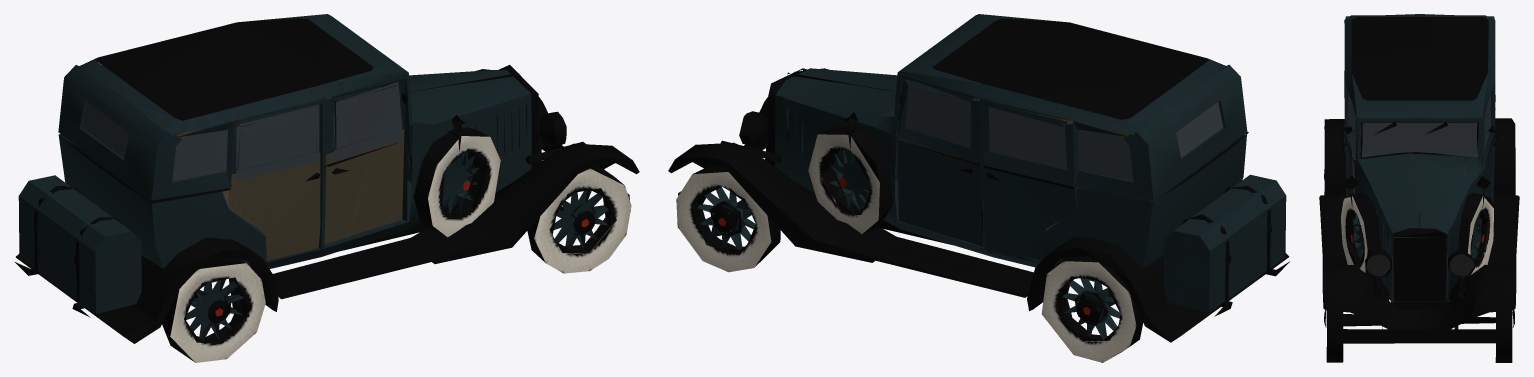
Rendered from car_pv.glb.
3 views of the same model, side by side, from view 1: azimuth 30°, elevation 25°; view 2: azimuth 150°, elevation 25°; view 3: azimuth 270°, elevation 25° (orthographic). The views are drawn at different scales.
Visible parts, largest first — view 1: CarSedan; view 2: CarSedan; view 3: CarSedan.
Boxes of the visible parts, x1,y1,x2,y2 form: CarSedan: (15, 14, 639, 362); CarSedan: (668, 14, 1289, 362); CarSedan: (1319, 14, 1519, 362).
Size of the model in its own units: 4.4 by 1.87 by 1.79.
Materials: 1 (1 with a texture image).
